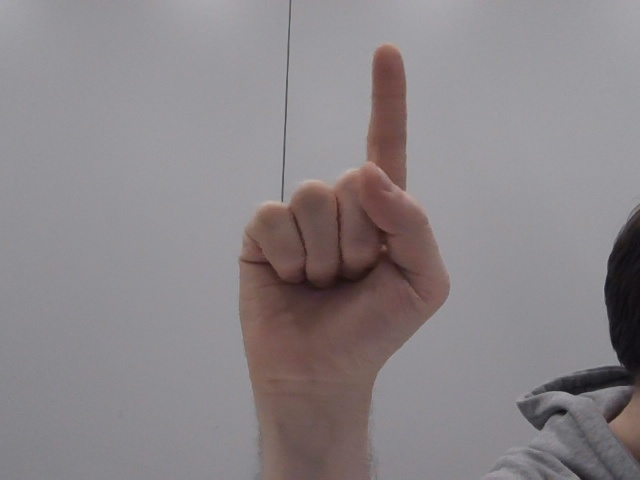up: (203, 28, 484, 397)
